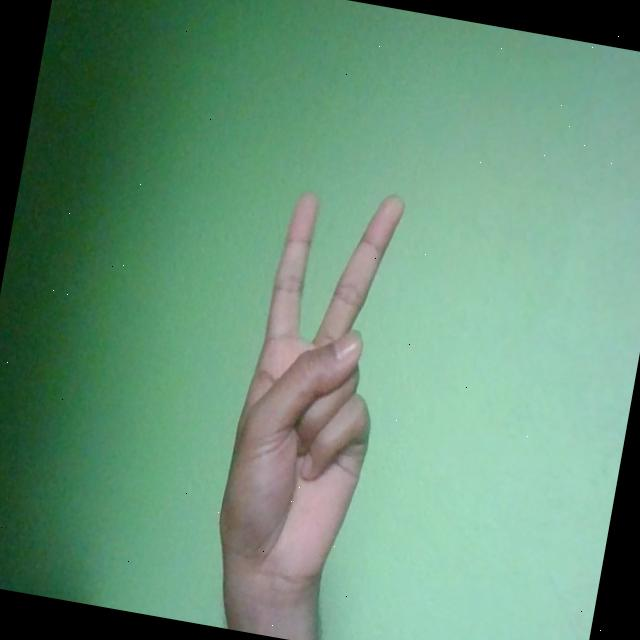Fist: (206, 173, 413, 610)
